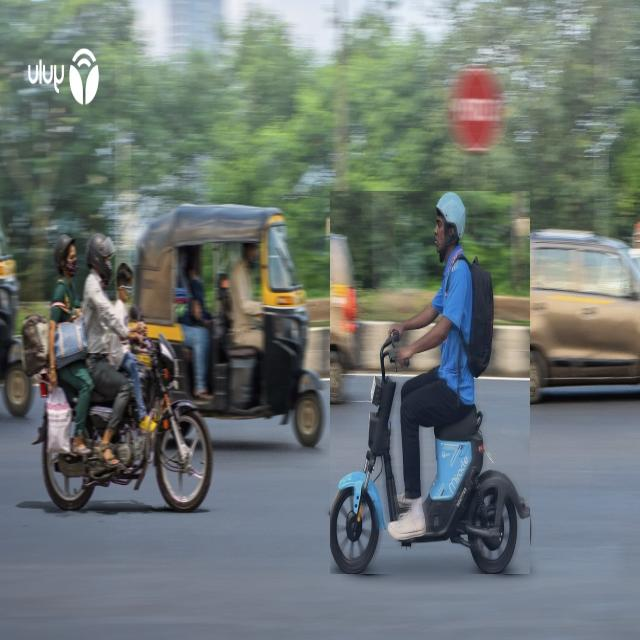autorickshaw: (138, 206, 325, 445)
motorcycle: (330, 191, 530, 574), (38, 234, 212, 511)
